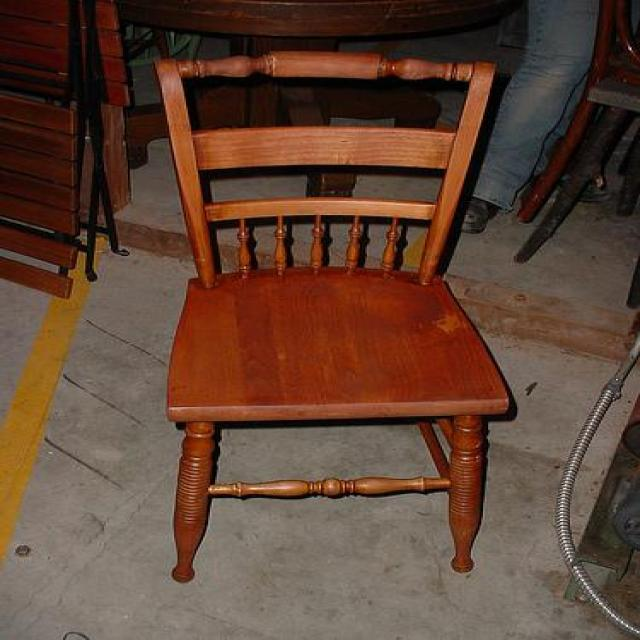chair: (152, 49, 517, 582)
